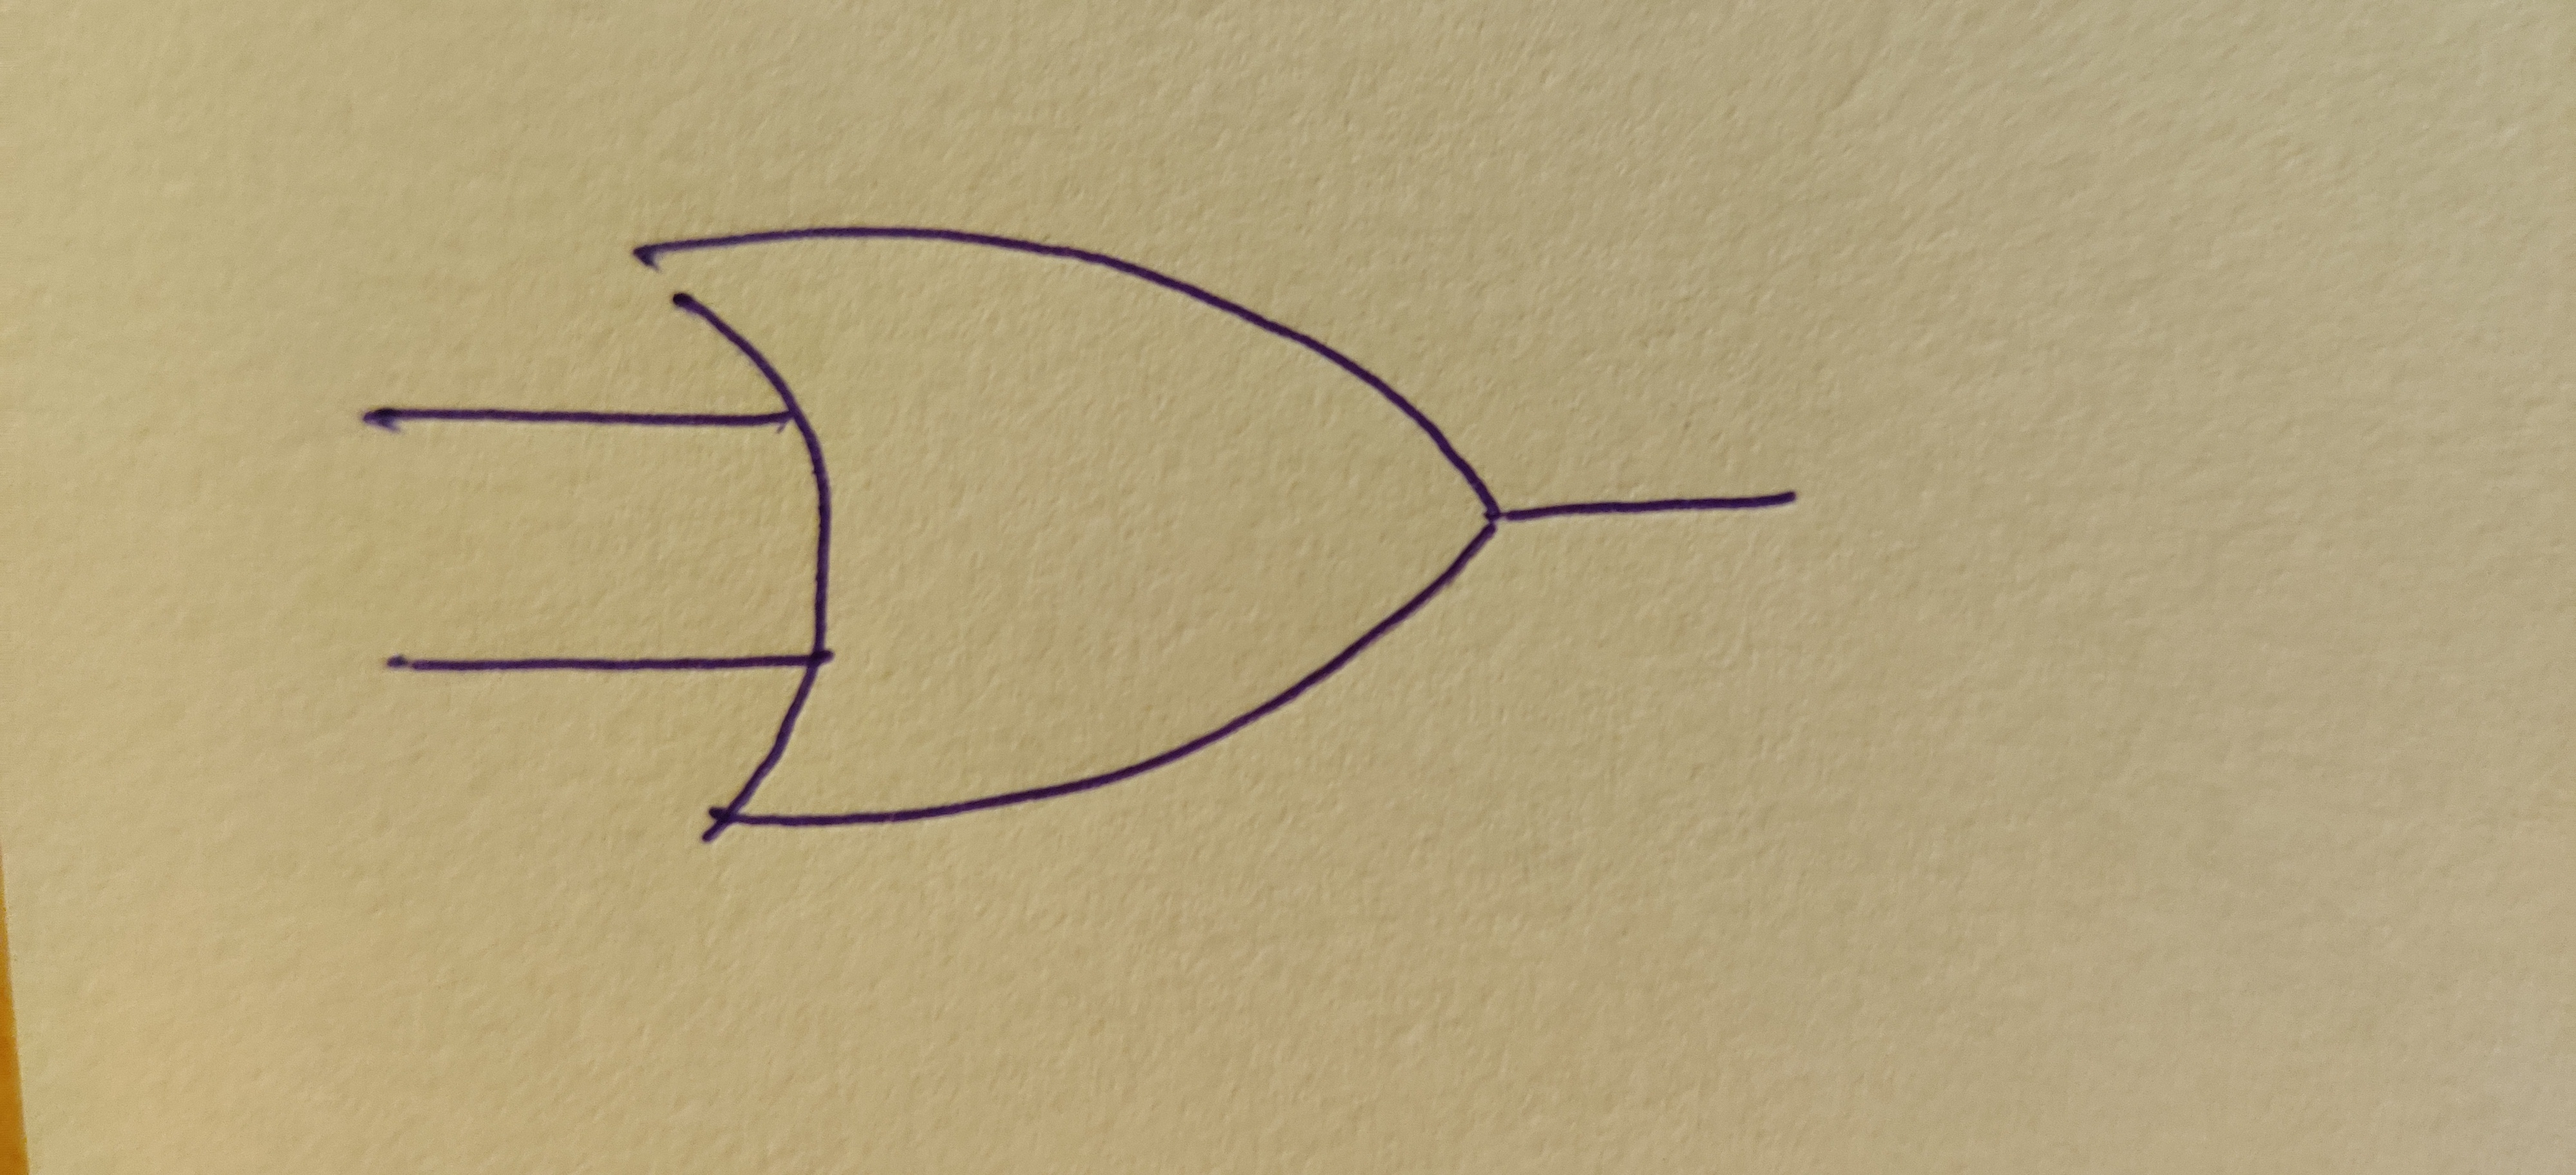or: (636, 228, 1498, 830)
